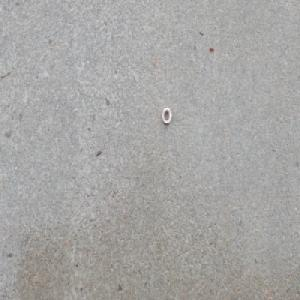Nut: (161, 106, 172, 125)
